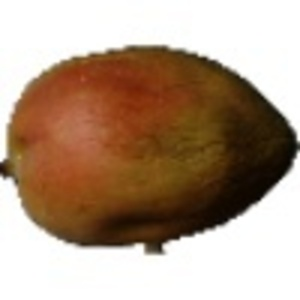mamão: (6, 39, 296, 247)
